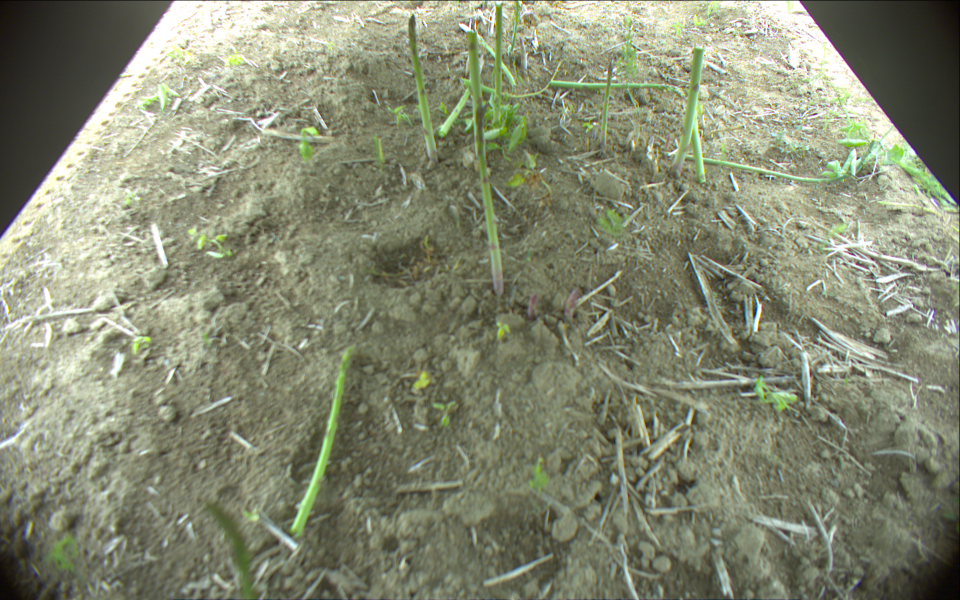aspa: (291, 345, 355, 537), (464, 31, 506, 295), (667, 136, 876, 185), (205, 503, 254, 600), (669, 47, 705, 177), (408, 14, 438, 161), (462, 58, 565, 97), (458, 22, 517, 85), (550, 79, 685, 96), (439, 87, 470, 137), (492, 1, 504, 128), (689, 109, 707, 183), (600, 64, 614, 147), (508, 1, 520, 56), (565, 287, 583, 322), (526, 292, 538, 321), (520, 37, 529, 72)
